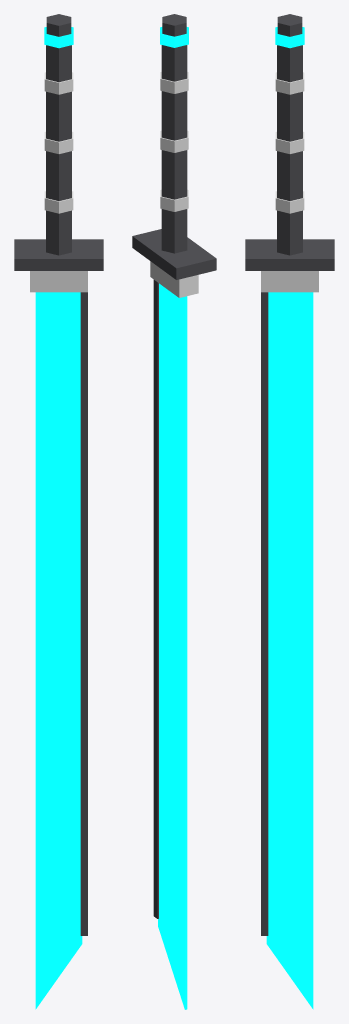
The model's file is Sword.fbx.
3 renders of one model, left to right at view 1: azimuth 90°, elevation 25°; view 2: azimuth 210°, elevation 25°; view 3: azimuth 270°, elevation 25°, orthographic.
Parts seen in each view (by area): view 1: Sword; view 2: Sword; view 3: Sword.
Part boxes in pixels (x1,y1,x2,y2): Sword: (14, 14, 103, 1009); Sword: (132, 14, 216, 1009); Sword: (245, 14, 334, 1009).
Size of the model in its own units: 0.05 by 1.16 by 0.095.
